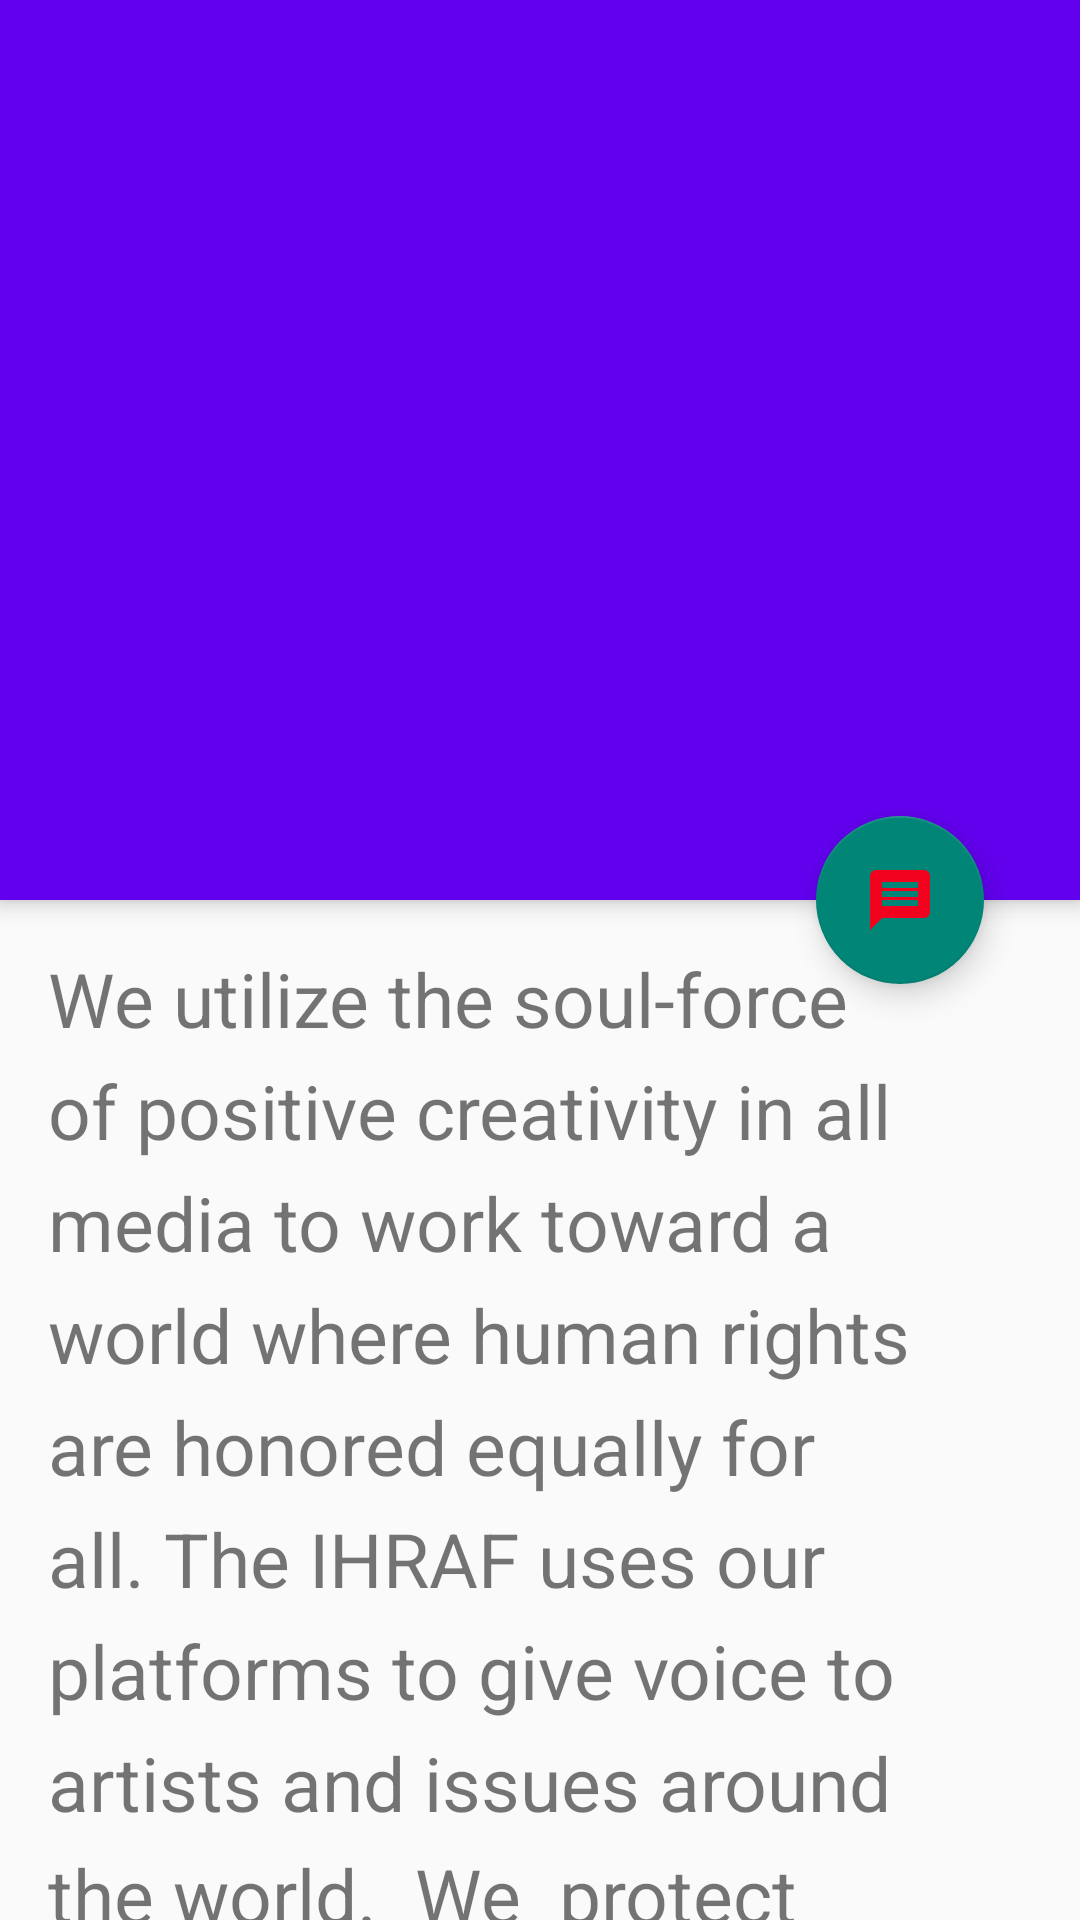

Icon click points for this 1080 × 1920 phone screenshot, format (x,y):
message: (900,900)
